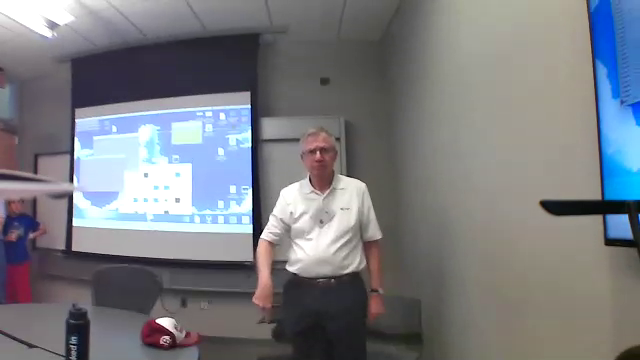down: (246, 277, 284, 322)
